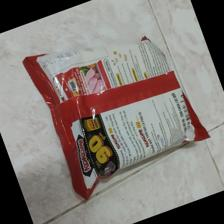Kokomi: (23, 34, 210, 198)
